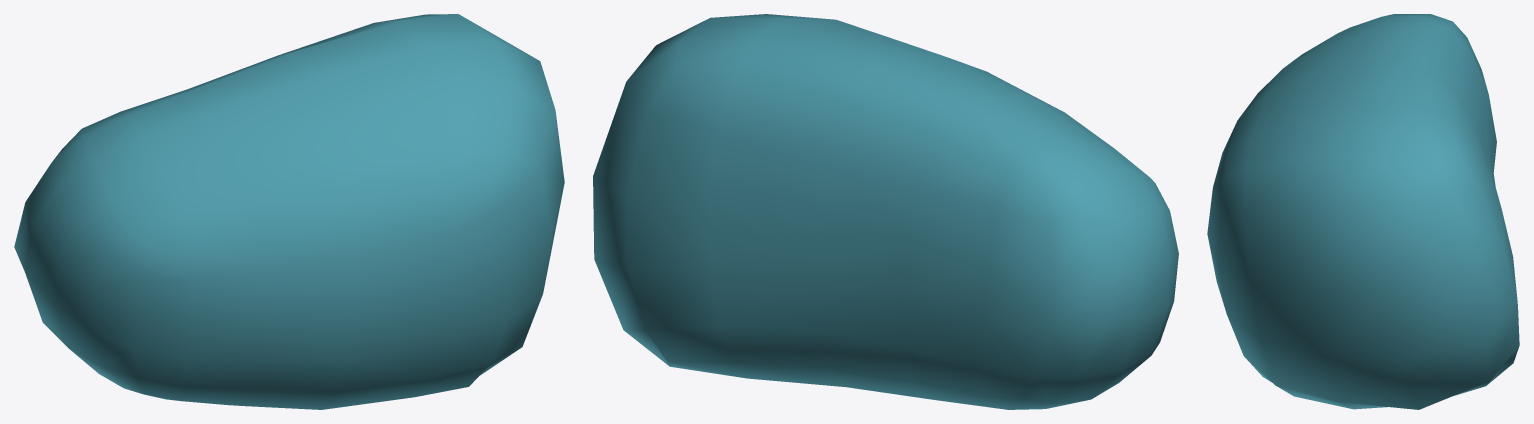
File: VIS_Alpha_Surface_046.dae
3 renders of one model, left to right at view 1: azimuth 30°, elevation 25°; view 2: azimuth 150°, elevation 25°; view 3: azimuth 270°, elevation 25°, orthographic. The views are drawn at different scales.
Parts seen in each view (by area): view 1: VIS_Alpha_Surface_046; view 2: VIS_Alpha_Surface_046; view 3: VIS_Alpha_Surface_046.
Boxes of the visible parts, x1,y1,x2,y2 form: VIS_Alpha_Surface_046: (14, 14, 564, 409); VIS_Alpha_Surface_046: (593, 14, 1178, 409); VIS_Alpha_Surface_046: (1207, 14, 1519, 409).
Bounding box in the file's own units: 0.0349 × 0.0205 × 0.0209.
